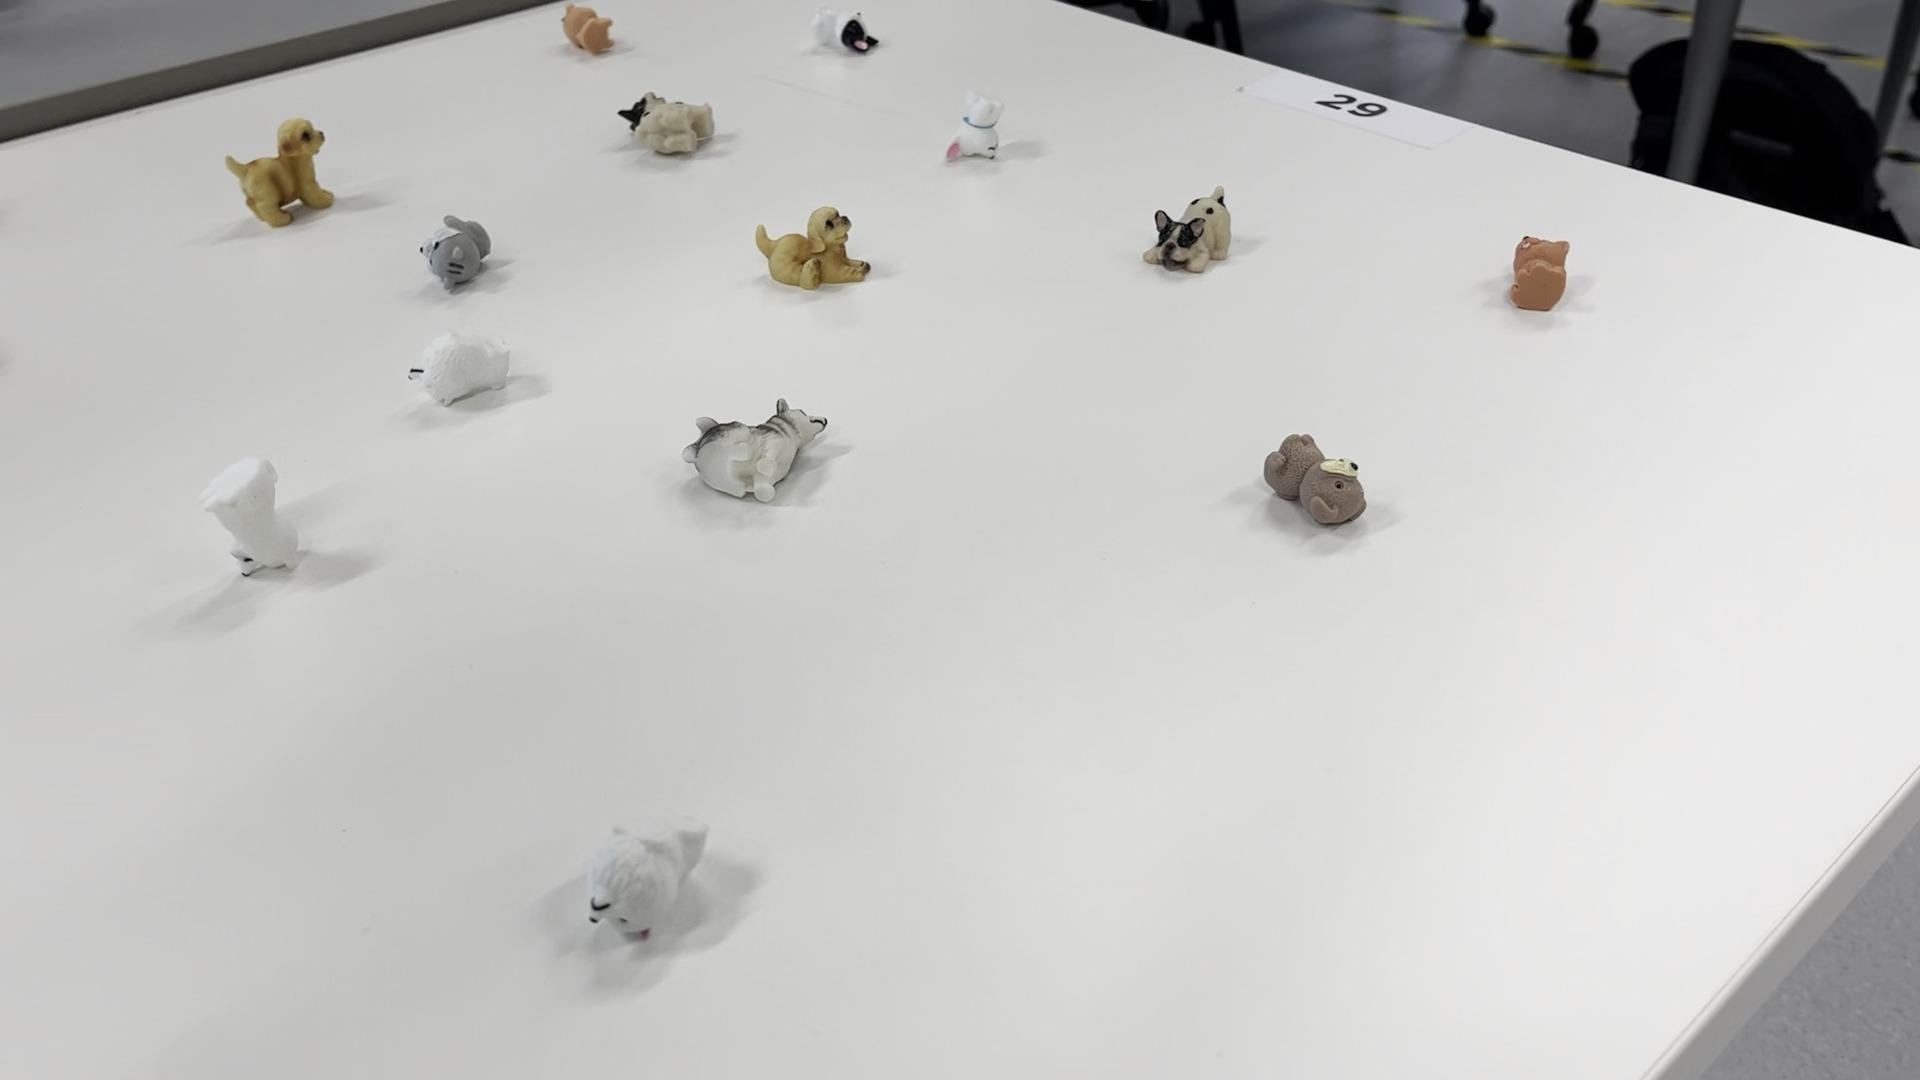pet: (518, 783, 732, 998), (1251, 393, 1395, 585), (186, 452, 336, 632), (679, 390, 858, 516), (765, 189, 895, 324), (203, 117, 348, 228), (401, 319, 526, 433), (1482, 224, 1602, 331), (1131, 193, 1247, 299), (381, 211, 508, 307), (612, 84, 740, 169), (930, 95, 1031, 196), (800, 7, 895, 83), (550, 0, 620, 69)
